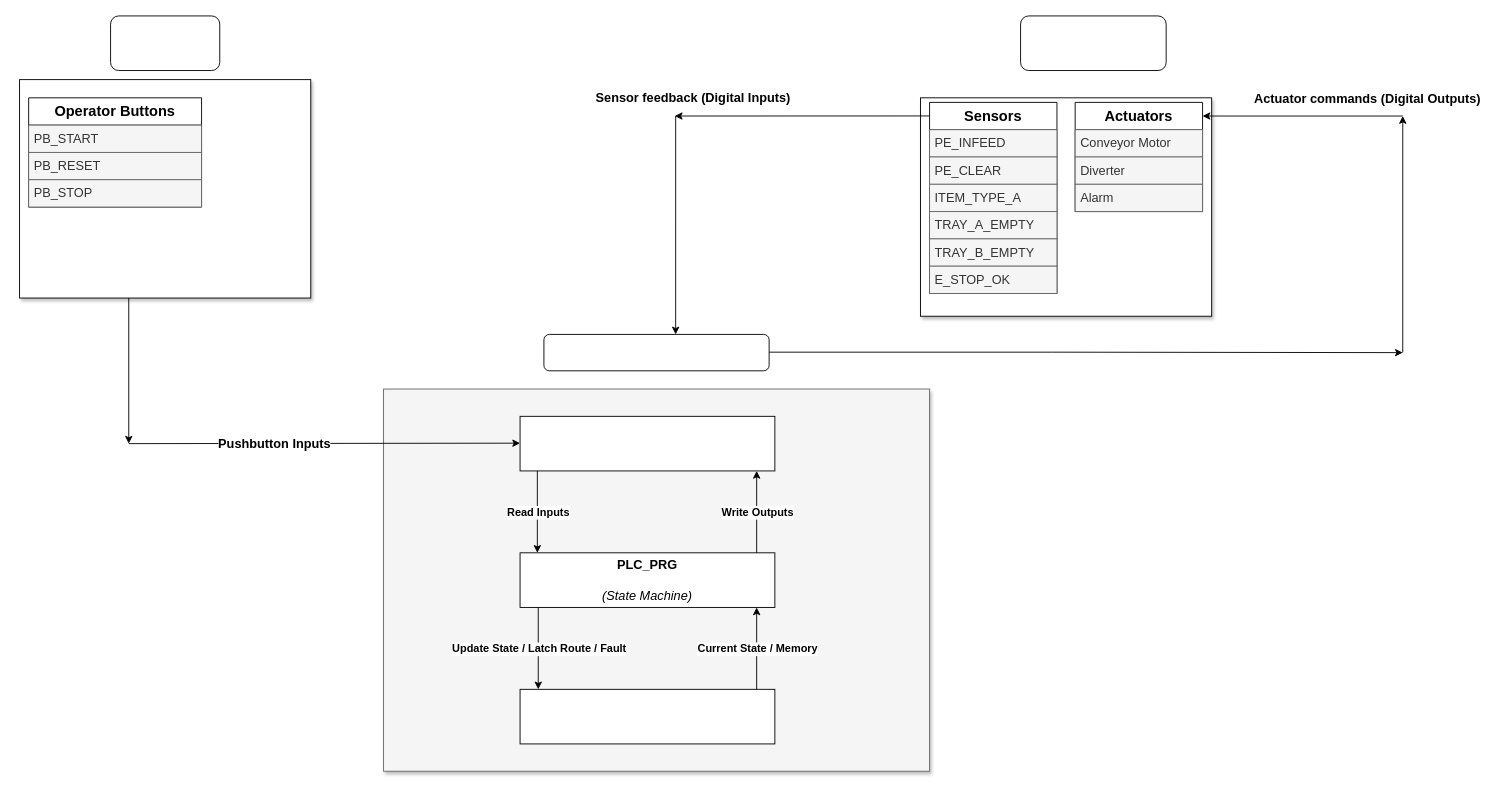
Image size: 1496x794. Some labels were removed from this diagram. Each missing label, with the centre of its shape:
"Factory I/O Plant" belongs at pixel 1093 43.
"GVL_IO (I/O Map)" belongs at pixel 647 443.
"GVL_System (Memory)" belongs at pixel 647 716.
"Operator" belongs at pixel 165 43.
"PLC Controller (CODESYS)" belongs at pixel 656 352.
